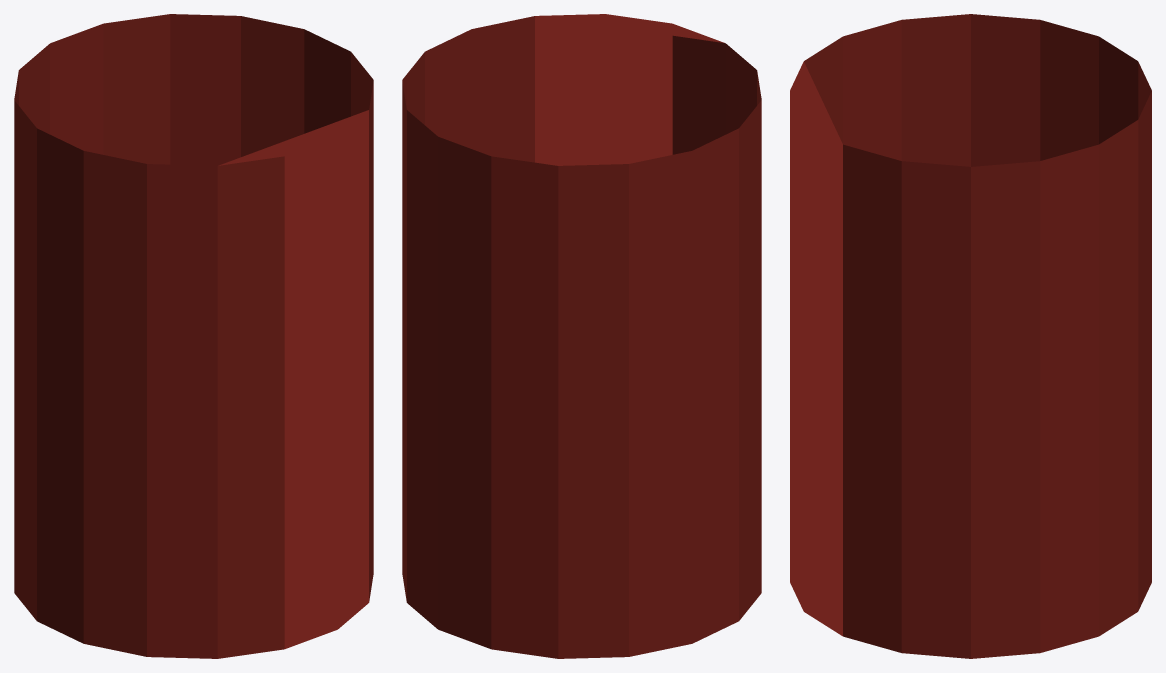
The model's file is barrel.fbx.
3 views of the same model, side by side, from view 1: azimuth 30°, elevation 25°; view 2: azimuth 150°, elevation 25°; view 3: azimuth 270°, elevation 25° (orthographic).
Visible parts, largest first — view 1: Barrel; view 2: Barrel; view 3: Barrel.
Part boxes in pixels (x1=…): Barrel: x1=14, y1=14, x2=373, y2=658; Barrel: x1=402, y1=14, x2=761, y2=658; Barrel: x1=790, y1=14, x2=1151, y2=658.
Bounding box in the file's own units: 100 × 150 × 100.
